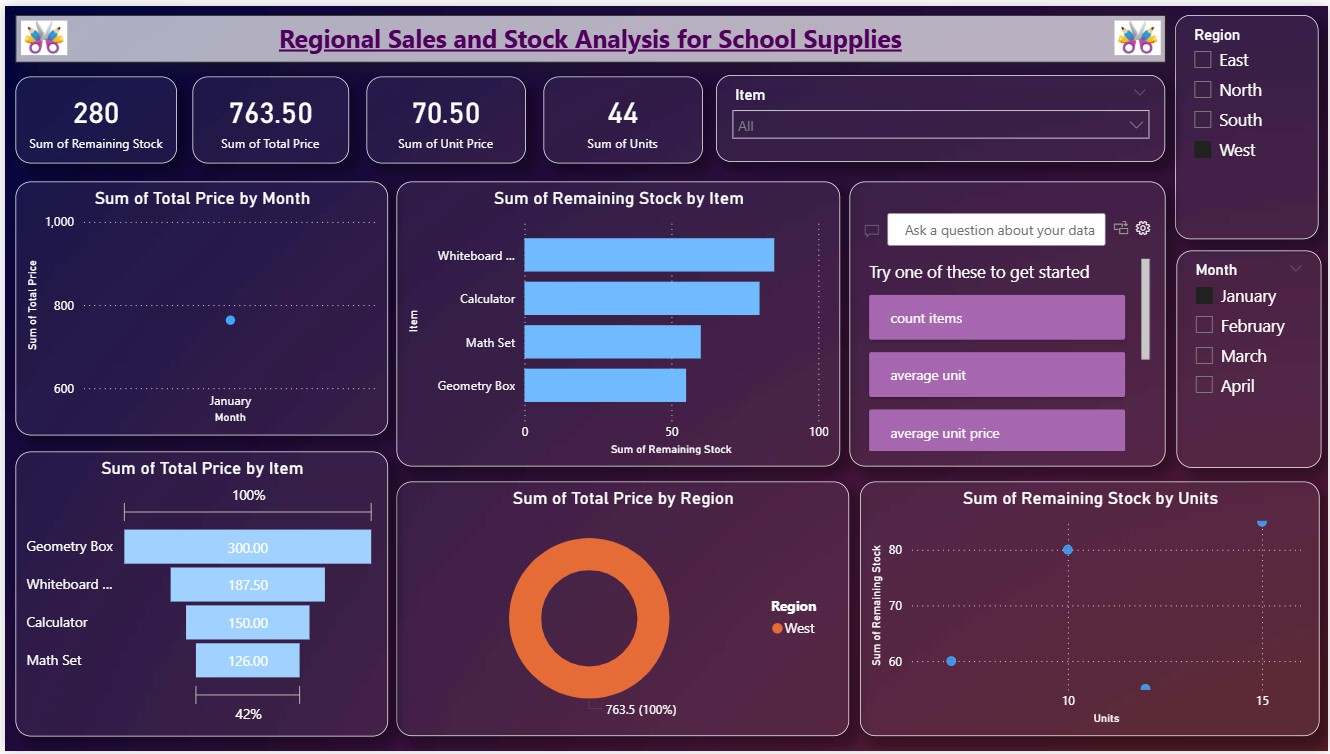

What the dashboard file says about the page in this screenshot:
{"tool":"powerbi","page":{"name":"Page 1","canvas":[1280,720],"ordinal":0},"visuals":[{"type":"lineChart","fields":{"Category":["Dataset1.Order Date.Variation.Date Hierarchy.Month"],"Y":["Sum(Dataset1.Total Price)"]},"box":[10,170,360,245],"z":0},{"type":"donutChart","fields":{"Category":["Dataset1.Region"],"Y":["Sum(Dataset1.Total Price)"]},"box":[378.6,460,437.1,245.7],"z":1000},{"type":"funnel","fields":{"Category":["Dataset1.Item"],"Y":["Sum(Dataset1.Total Price)"]},"box":[10,430,360,275],"z":2000},{"type":"slicer","fields":{"Values":["Dataset1.Region"]},"box":[1131.1,8.9,138.9,216.7],"z":3000},{"type":"scatterChart","fields":{"X":["Dataset1.Units"],"Y":["Sum(Dataset1.Remaining Stock)"]},"box":[825.7,460,444.3,245.7],"z":4000},{"type":"card","fields":{"Values":["Sum(Dataset1.Remaining Stock)"]},"box":[10,67.5,156.2,83.8],"z":5000},{"type":"card","fields":{"Values":["Sum(Dataset1.Total Price)"]},"box":[181.2,67.5,151.2,83.8],"z":6000},{"type":"card","fields":{"Values":["Sum(Dataset1.Unit Price)"]},"box":[350,67.5,153.8,83.8],"z":7000},{"type":"card","fields":{"Values":["Sum(Dataset1.Units)"]},"box":[520,67.5,153.8,83.8],"z":8000},{"type":"textbox","box":[10,8.6,1111.4,45.7],"z":9000},{"type":"barChart","fields":{"Category":["Dataset1.Item"],"Y":["Sum(Dataset1.Remaining Stock)"]},"box":[378.9,170,428.9,275.6],"z":10000},{"type":"slicer","fields":{"Values":["Dataset1.Item"]},"box":[687.1,67.1,434.3,84.3],"z":11000},{"type":"qnaVisual","box":[815.6,170,305.6,275.6],"z":12000},{"type":"slicer","fields":{"Values":["Dataset1.Order Date.Variation.Date Hierarchy.Month"]},"box":[1131.4,235.7,140,210],"z":13000},{"type":"image","box":[10,1.2,55,58.8],"z":14000},{"type":"image","box":[1066.2,1.2,55,58.8],"z":15000}]}

Visuals, with their boxes in screenshot pixels (x1, y1, x2, y2), scaled from the page's 1280x720 canvas onto the 1330x754 screenshot:
lineChart - Dataset1.Order Date.Variation.Date Hierarchy.Month x Sum(Dataset1.Total Price): {"left": 10, "top": 178, "right": 384, "bottom": 435}
donutChart - Dataset1.Region x Sum(Dataset1.Total Price): {"left": 393, "top": 482, "right": 848, "bottom": 739}
funnel - Dataset1.Item x Sum(Dataset1.Total Price): {"left": 10, "top": 450, "right": 384, "bottom": 738}
slicer - Dataset1.Region: {"left": 1175, "top": 9, "right": 1320, "bottom": 236}
scatterChart - Dataset1.Units x Sum(Dataset1.Remaining Stock): {"left": 858, "top": 482, "right": 1320, "bottom": 739}
card - Sum(Dataset1.Remaining Stock): {"left": 10, "top": 71, "right": 173, "bottom": 158}
card - Sum(Dataset1.Total Price): {"left": 188, "top": 71, "right": 345, "bottom": 158}
card - Sum(Dataset1.Unit Price): {"left": 364, "top": 71, "right": 523, "bottom": 158}
card - Sum(Dataset1.Units): {"left": 540, "top": 71, "right": 700, "bottom": 158}
textbox: {"left": 10, "top": 9, "right": 1165, "bottom": 57}
barChart - Dataset1.Item x Sum(Dataset1.Remaining Stock): {"left": 394, "top": 178, "right": 839, "bottom": 467}
slicer - Dataset1.Item: {"left": 714, "top": 70, "right": 1165, "bottom": 159}
qnaVisual: {"left": 847, "top": 178, "right": 1165, "bottom": 467}
slicer - Dataset1.Order Date.Variation.Date Hierarchy.Month: {"left": 1176, "top": 247, "right": 1321, "bottom": 467}
image: {"left": 10, "top": 1, "right": 68, "bottom": 63}
image: {"left": 1108, "top": 1, "right": 1165, "bottom": 63}
